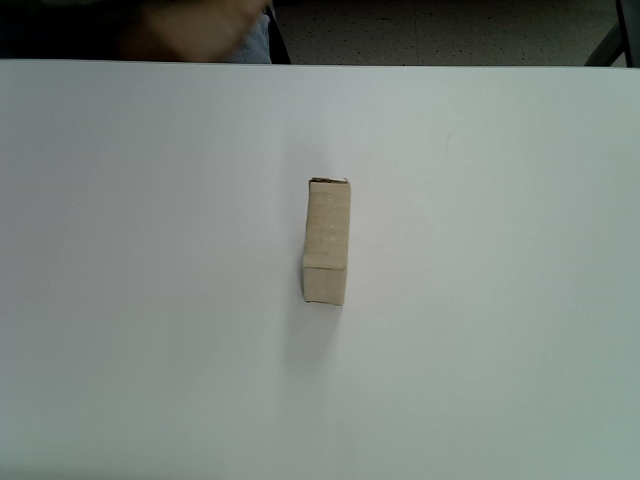normal: (300, 177, 353, 307)
